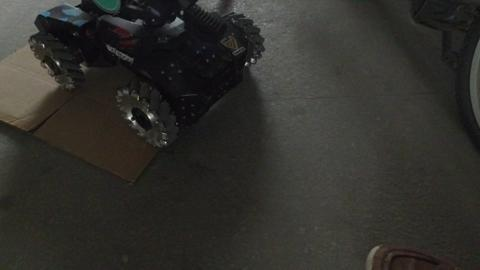chariot: (23, 5, 276, 156)
